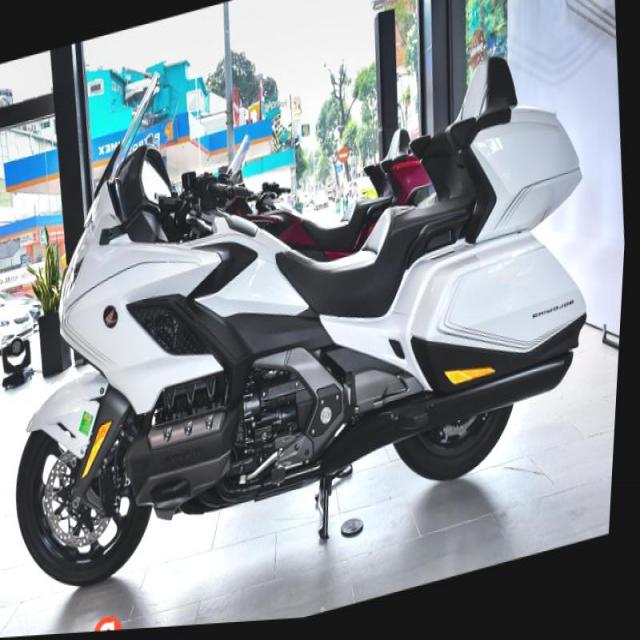Gold Wing: (0, 0, 622, 610)
